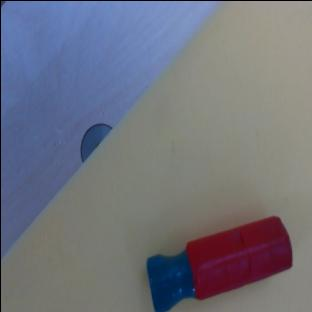part_2_good: (137, 210, 299, 312)
